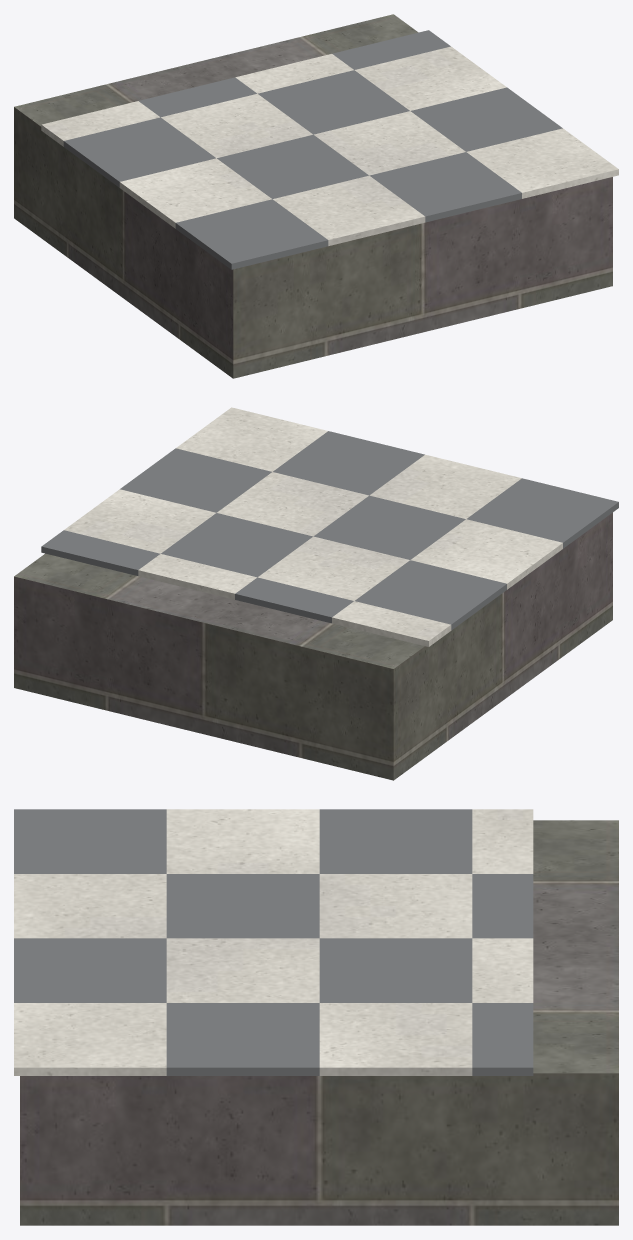
File: floor_marble_g_e0010.glb
The picture shows the model from 3 angles, top to bottom: view 1: azimuth 30°, elevation 25°; view 2: azimuth 150°, elevation 25°; view 3: azimuth 270°, elevation 25°; orthographic projection. The views are drawn at different scales.
Visible parts, largest first — view 1: floor_marble_g_e0010_plinth, floor_marble_g_e0010_slate, floor_marble_g_e0010_marble; view 2: floor_marble_g_e0010_plinth, floor_marble_g_e0010_slate, floor_marble_g_e0010_marble; view 3: floor_marble_g_e0010_plinth, floor_marble_g_e0010_marble, floor_marble_g_e0010_slate.
Boxes of the visible parts, x1,y1,x2,y2 form: floor_marble_g_e0010_plinth: (14, 14, 612, 378); floor_marble_g_e0010_slate: (63, 30, 562, 269); floor_marble_g_e0010_marble: (41, 46, 618, 245); floor_marble_g_e0010_plinth: (14, 512, 612, 780); floor_marble_g_e0010_slate: (41, 431, 618, 630); floor_marble_g_e0010_marble: (64, 407, 562, 646); floor_marble_g_e0010_plinth: (20, 820, 618, 1225); floor_marble_g_e0010_marble: (14, 809, 533, 1075); floor_marble_g_e0010_slate: (14, 809, 533, 1075).
Bounding box in the file's own units: 2 × 0.58 × 1.98.
3 materials, 2 textured.
